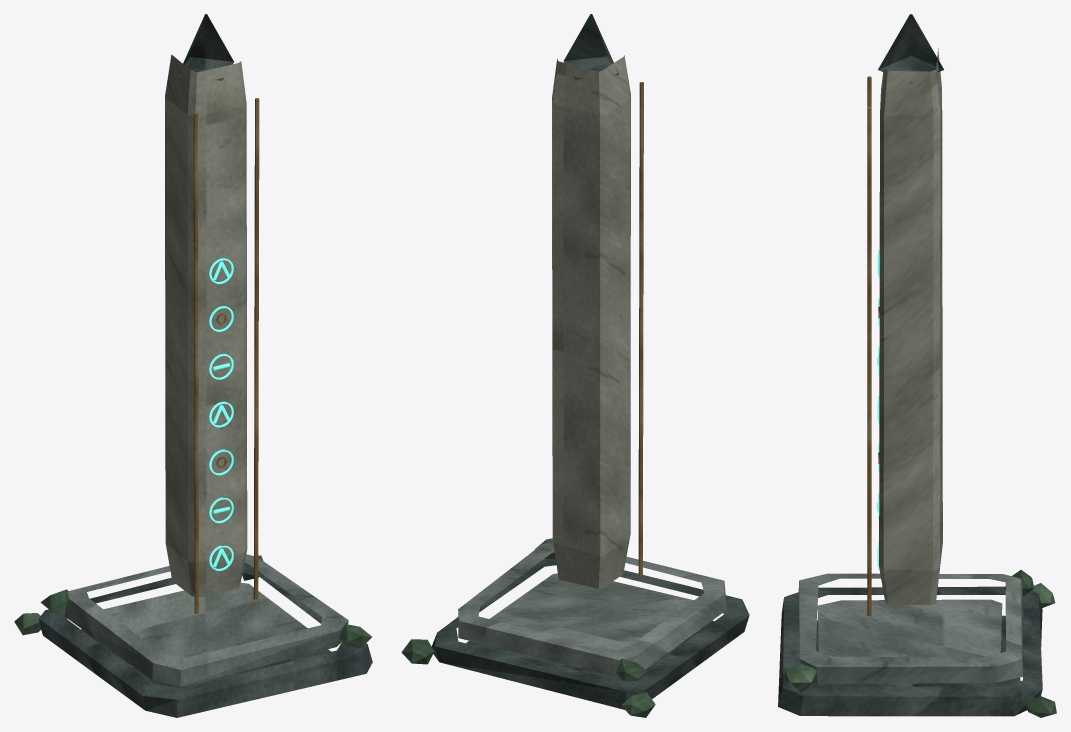
File: 0497_obelisk_22.glb
3 renders of one model, left to right at view 1: azimuth 30°, elevation 25°; view 2: azimuth 150°, elevation 25°; view 3: azimuth 270°, elevation 25°, orthographic. The views are drawn at different scales.
Parts seen in each view (by area): view 1: stone_light, stone, stone_dark, brass, glow, moss; view 2: stone_light, stone, stone_dark, brass, moss; view 3: stone_light, stone, stone_dark, brass, moss.
Boxes of the visible parts, bbox=[...] form: stone_light: bbox=[165, 54, 247, 597]; stone: bbox=[63, 554, 348, 686]; stone_dark: bbox=[38, 14, 372, 717]; brass: bbox=[193, 98, 259, 613]; glow: bbox=[209, 258, 233, 570]; moss: bbox=[14, 555, 371, 647]; stone_light: bbox=[552, 55, 630, 588]; stone: bbox=[458, 543, 726, 678]; stone_dark: bbox=[431, 14, 749, 709]; brass: bbox=[638, 82, 643, 575]; moss: bbox=[401, 538, 655, 717]; stone_light: bbox=[879, 48, 942, 605]; stone: bbox=[798, 573, 1022, 684]; stone_dark: bbox=[778, 14, 1042, 716]; brass: bbox=[867, 76, 879, 616]; moss: bbox=[784, 570, 1056, 717].
Bounding box in the file's own units: 2.1 × 5.16 × 2.01.
6 materials, 6 textured.
